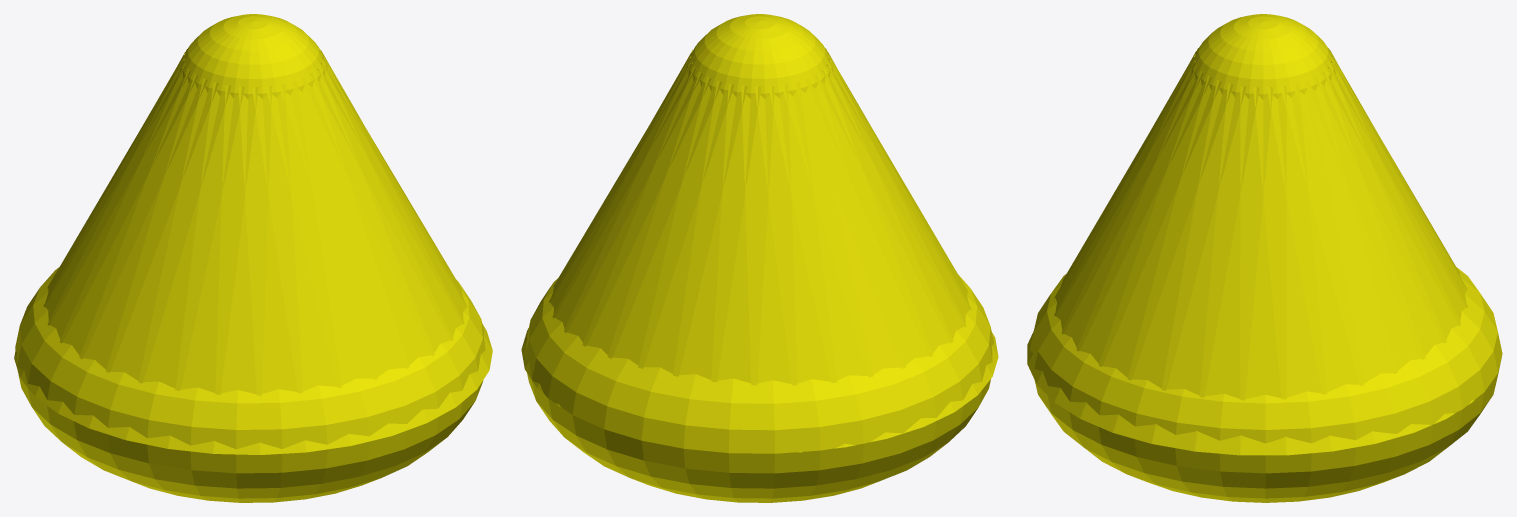
The model's file is yellowCandy.fbx.
The picture shows the model from 3 angles, left to right: view 1: azimuth 30°, elevation 25°; view 2: azimuth 150°, elevation 25°; view 3: azimuth 270°, elevation 25°; orthographic projection.
Parts seen in each view (by area): view 1: Cone; view 2: Cone; view 3: Cone.
Boxes of the visible parts, x1,y1,x2,y2 form: Cone: (14,14,492,502); Cone: (521,14,998,502); Cone: (1027,14,1502,502).
Size of the model in its own units: 638 by 654 by 634.
